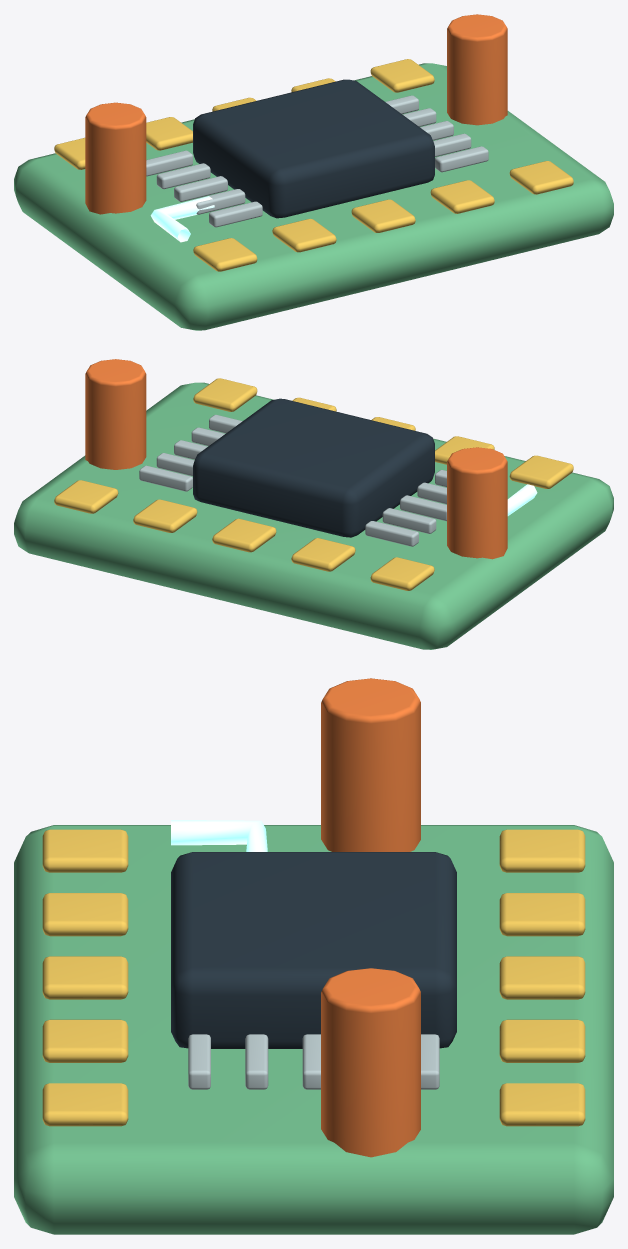
The model's file is Circuit_Board.glb.
3 views of the same model, one above another, from view 1: azimuth 30°, elevation 25°; view 2: azimuth 150°, elevation 25°; view 3: azimuth 270°, elevation 25° (orthographic). The views are drawn at different scales.
Parts seen in each view (by area): view 1: PCB, Processor, Capacitor, Capacitor.001, Gold edge contact.002, Gold edge contact.003, Gold edge contact.004, Gold edge contact, Gold edge contact.009, Gold edge contact.001, Printed circuit path, Gold edge contact.006 (+9 smaller); view 2: PCB, Processor, Capacitor.001, Capacitor, Gold edge contact.006, Gold edge contact.004, Gold edge contact.007, Gold edge contact.009, Gold edge contact.005, Gold edge contact, Gold edge contact.008, Chip lead.003 (+10 smaller); view 3: PCB, Processor, Capacitor.001, Capacitor, Gold edge contact.001, Gold edge contact.002, Gold edge contact.003, Gold edge contact.006, Gold edge contact.007, Gold edge contact.008, Gold edge contact, Gold edge contact.004 (+7 smaller).
Boxes of the visible parts, <box> form: PCB: <box>14,63,613,330</box>; Processor: <box>193,79,434,218</box>; Capacitor: <box>85,102,146,214</box>; Capacitor.001: <box>447,14,507,125</box>; Gold edge contact.002: <box>351,199,415,232</box>; Gold edge contact.003: <box>430,180,494,213</box>; Gold edge contact.004: <box>509,161,573,194</box>; Gold edge contact: <box>193,238,257,271</box>; Gold edge contact.009: <box>370,59,434,92</box>; Gold edge contact.001: <box>272,218,336,252</box>; Printed circuit path: <box>150,196,214,242</box>; Gold edge contact.006: <box>146,117,192,150</box>; PCB: <box>14,382,613,649</box>; Processor: <box>193,398,434,537</box>; Capacitor.001: <box>85,359,146,469</box>; Capacitor: <box>447,447,507,559</box>; Gold edge contact.006: <box>291,538,355,571</box>; Gold edge contact.004: <box>193,378,257,411</box>; Gold edge contact.007: <box>212,518,276,552</box>; Gold edge contact.009: <box>54,480,118,513</box>; Gold edge contact.005: <box>370,557,434,590</box>; Gold edge contact: <box>509,455,573,488</box>; Gold edge contact.008: <box>133,499,197,532</box>; Chip lead.003: <box>382,508,436,533</box>; PCB: <box>14,825,613,1234</box>; Processor: <box>171,852,456,1048</box>; Capacitor.001: <box>321,968,420,1157</box>; Capacitor: <box>321,678,420,851</box>; Gold edge contact.001: <box>42,893,128,936</box>; Gold edge contact.002: <box>42,956,128,999</box>; Gold edge contact.003: <box>42,1019,128,1062</box>; Gold edge contact.006: <box>499,893,585,936</box>; Gold edge contact.007: <box>499,956,585,999</box>; Gold edge contact.008: <box>499,1019,585,1062</box>; Gold edge contact: <box>42,829,128,872</box>; Gold edge contact.004: <box>42,1083,128,1126</box>.
Bounding box in the file's own units: 0.58 × 0.18 × 0.42.
